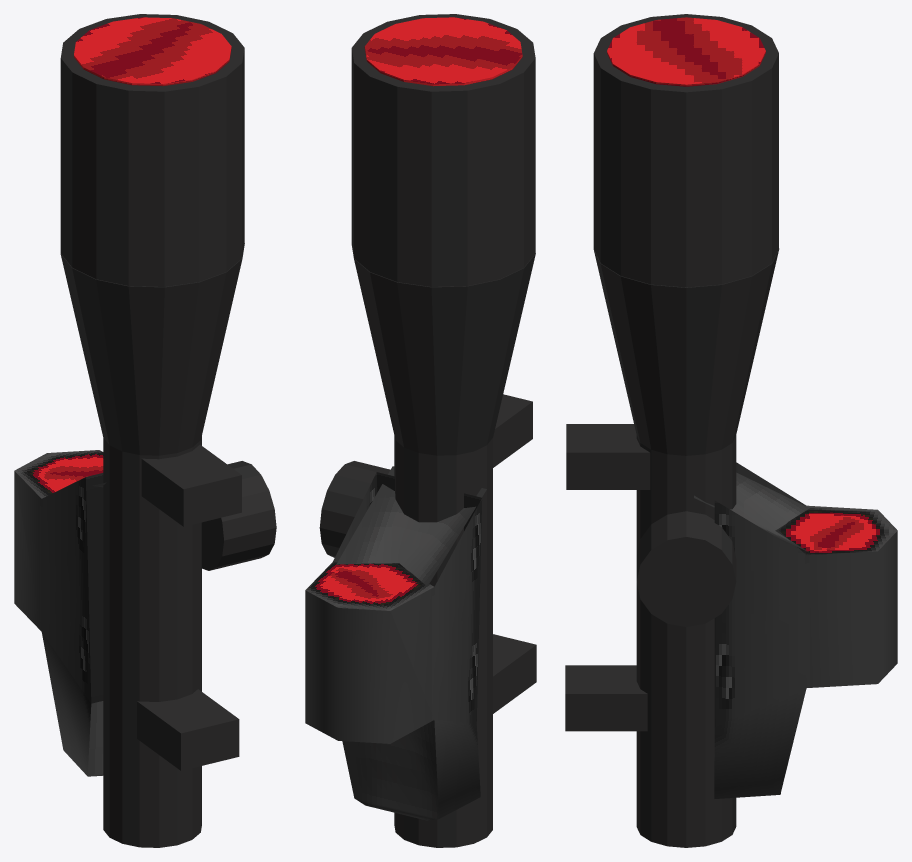
The model's file is x4ACOG.fbx.
3 renders of one model, left to right at view 1: azimuth 30°, elevation 25°; view 2: azimuth 150°, elevation 25°; view 3: azimuth 270°, elevation 25°, orthographic.
Visible parts, largest first — view 1: node_f23b70eb_3241_4d97_a4da_cdbfa0db56ec_mesh0; view 2: node_f23b70eb_3241_4d97_a4da_cdbfa0db56ec_mesh0; view 3: node_f23b70eb_3241_4d97_a4da_cdbfa0db56ec_mesh0.
Part boxes in pixels (x1=…): node_f23b70eb_3241_4d97_a4da_cdbfa0db56ec_mesh0: x1=14, y1=14, x2=276, y2=847; node_f23b70eb_3241_4d97_a4da_cdbfa0db56ec_mesh0: x1=305, y1=14, x2=536, y2=847; node_f23b70eb_3241_4d97_a4da_cdbfa0db56ec_mesh0: x1=565, y1=14, x2=897, y2=847.
Bounding box in the file's own units: 0.0291 × 0.1203 × 0.0467.
